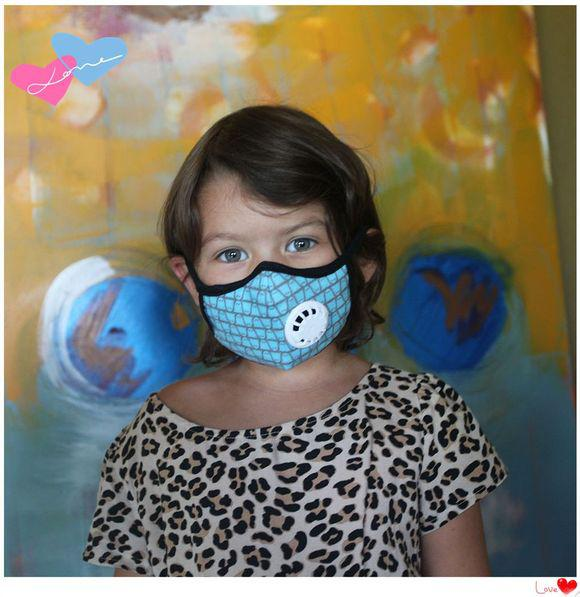OK: (192, 209, 351, 368)
